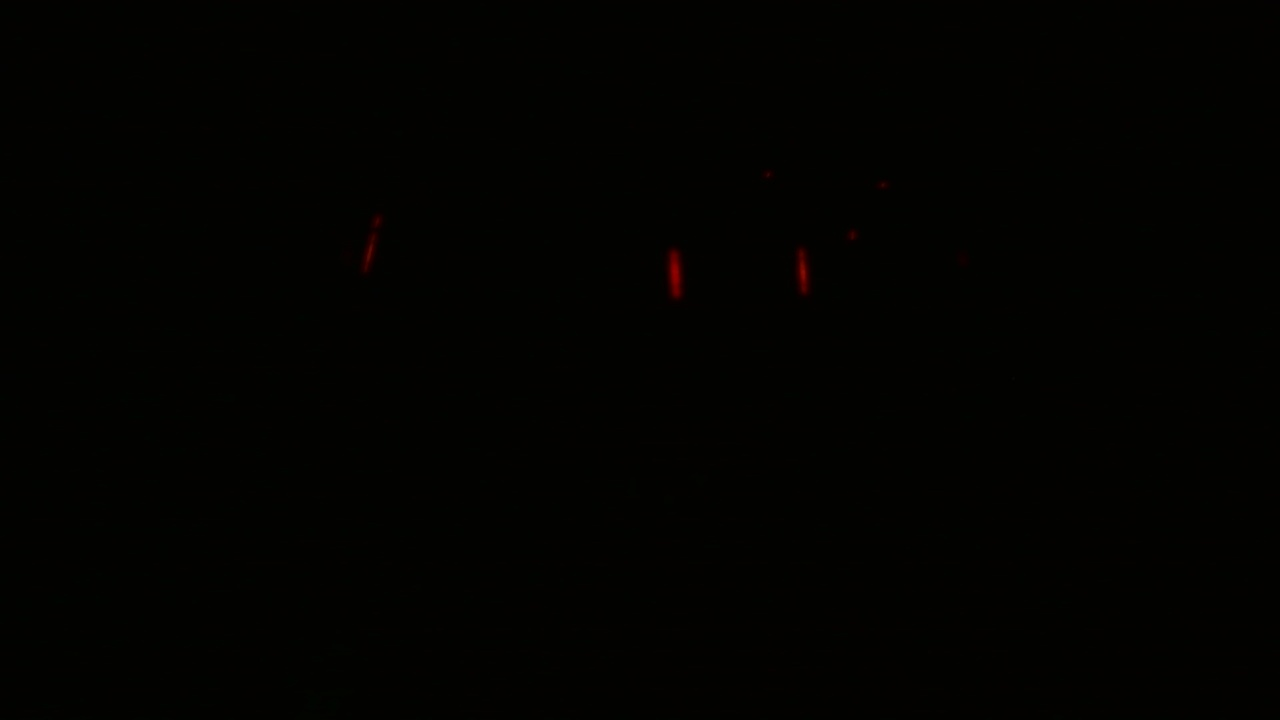pair1: (659, 238, 818, 303)
